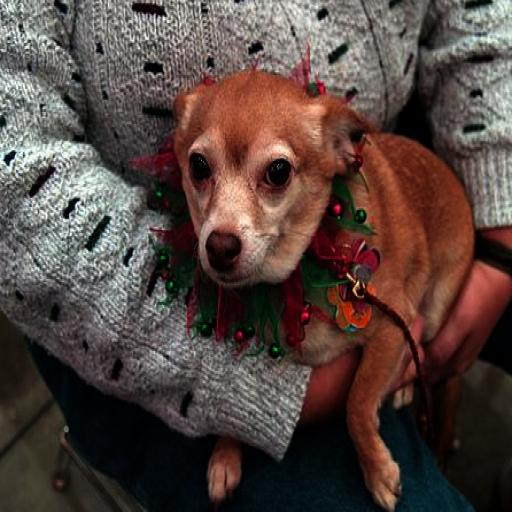dog_face: (169, 83, 354, 270)
